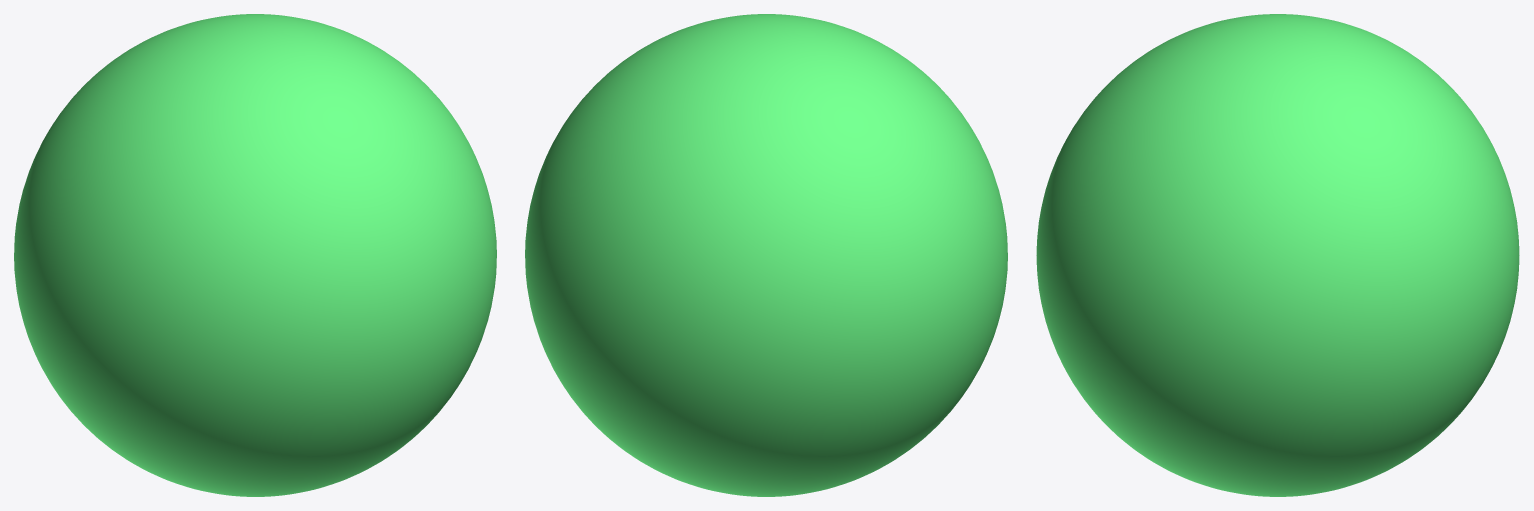
File: first aid kit.fbx
3 views of the same model, side by side, from view 1: azimuth 30°, elevation 25°; view 2: azimuth 150°, elevation 25°; view 3: azimuth 270°, elevation 25° (orthographic).
Visible parts, largest first — view 1: Sphere; view 2: Sphere; view 3: Sphere.
Boxes of the visible parts, <box> form: Sphere: <box>14,14,496,496</box>; Sphere: <box>525,14,1007,496</box>; Sphere: <box>1036,14,1519,496</box>.
Bounding box in the file's own units: 200 × 200 × 200.
